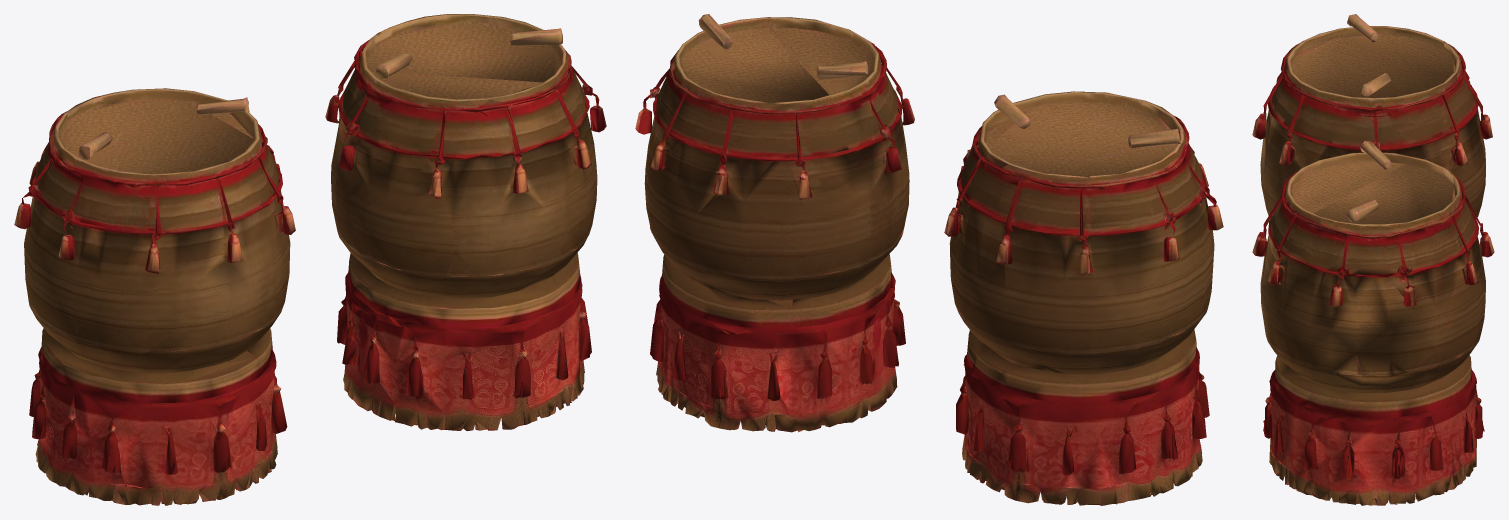
File: naqqara.glb
The picture shows the model from 3 angles, left to right: view 1: azimuth 30°, elevation 25°; view 2: azimuth 150°, elevation 25°; view 3: azimuth 270°, elevation 25°; orthographic projection. The views are drawn at different scales.
Visible parts, largest first — view 1: naqqara; view 2: naqqara; view 3: naqqara.
Part boxes in pixels (x1,y1,x2,y2): naqqara: (14, 14, 606, 505); naqqara: (635, 14, 1223, 505); naqqara: (1252, 14, 1494, 505).
Size of the model in its own units: 1.7 by 1.02 by 0.7725.
1 material, 1 textured.
